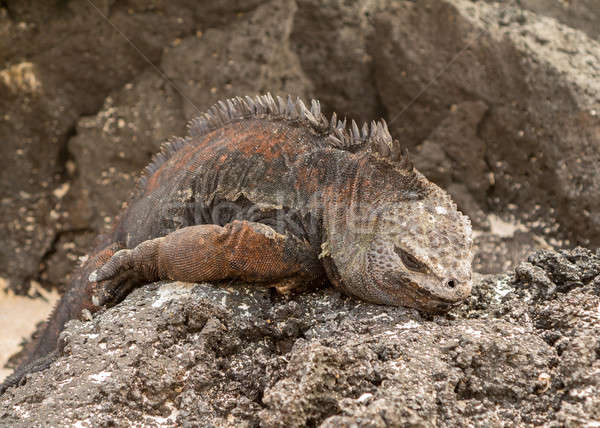volcanic_rock: (297, 318, 599, 428), (406, 11, 600, 154), (67, 295, 250, 428), (1, 7, 240, 99), (6, 64, 114, 226)
